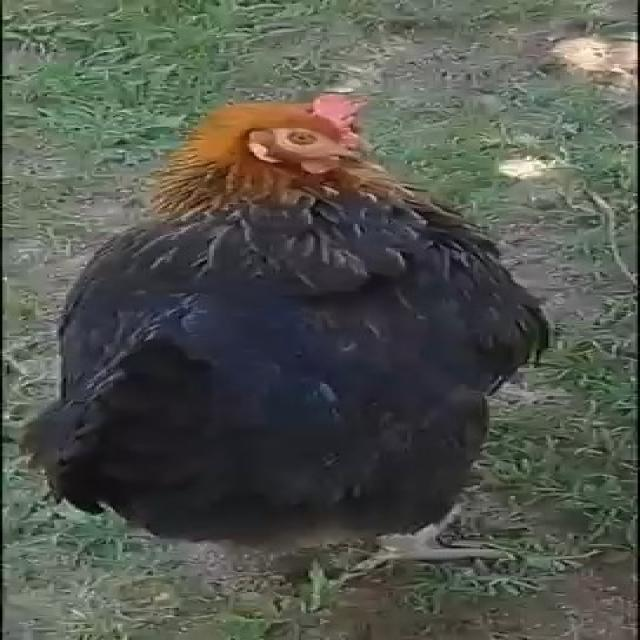self preening: (47, 99, 535, 579)
